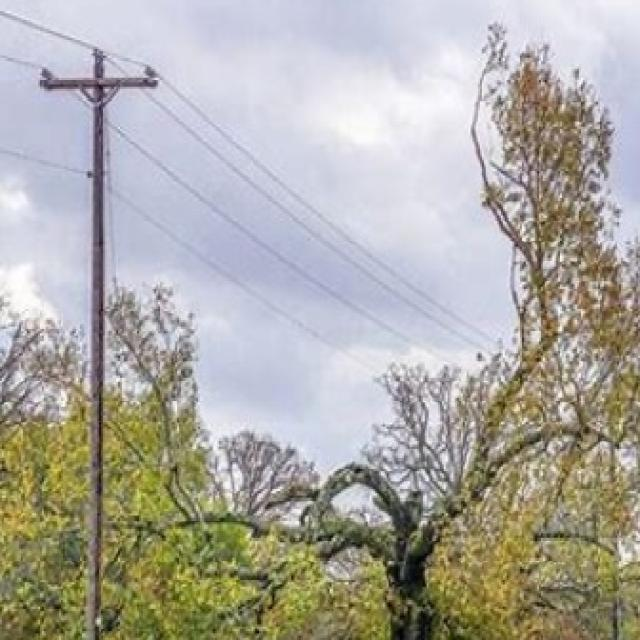utility poles: (31, 30, 175, 639)
